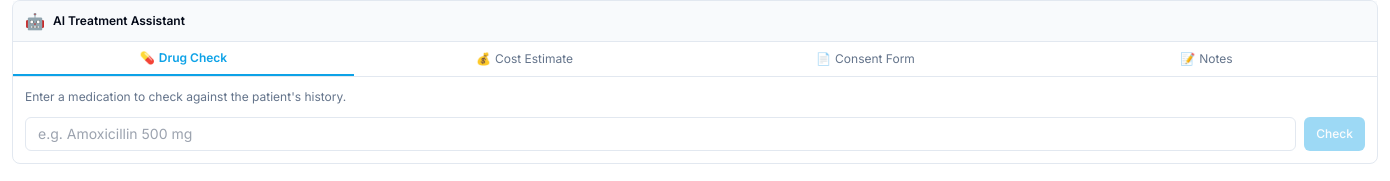
TreatmentAssist › switches to Consent Form tab and shows language selector
Click the text "Consent Form": (875, 59) [835, 51, 915, 67]
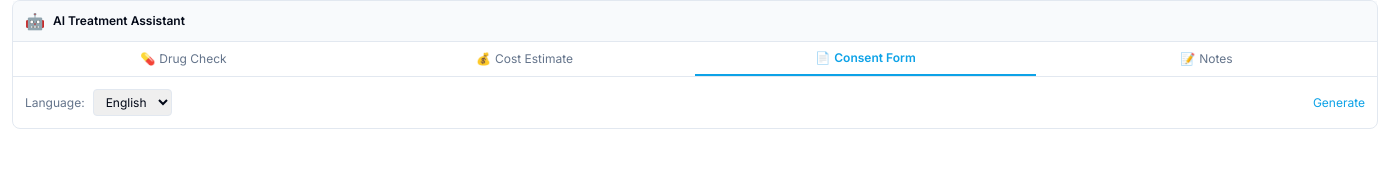
Check: the text "Language:" is shown, box [25, 94, 85, 110]
Check: the dropdown showing "English" is shown, box [93, 89, 172, 116]
